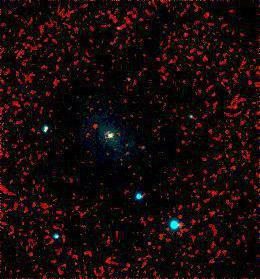star: (132, 132, 162, 162)
